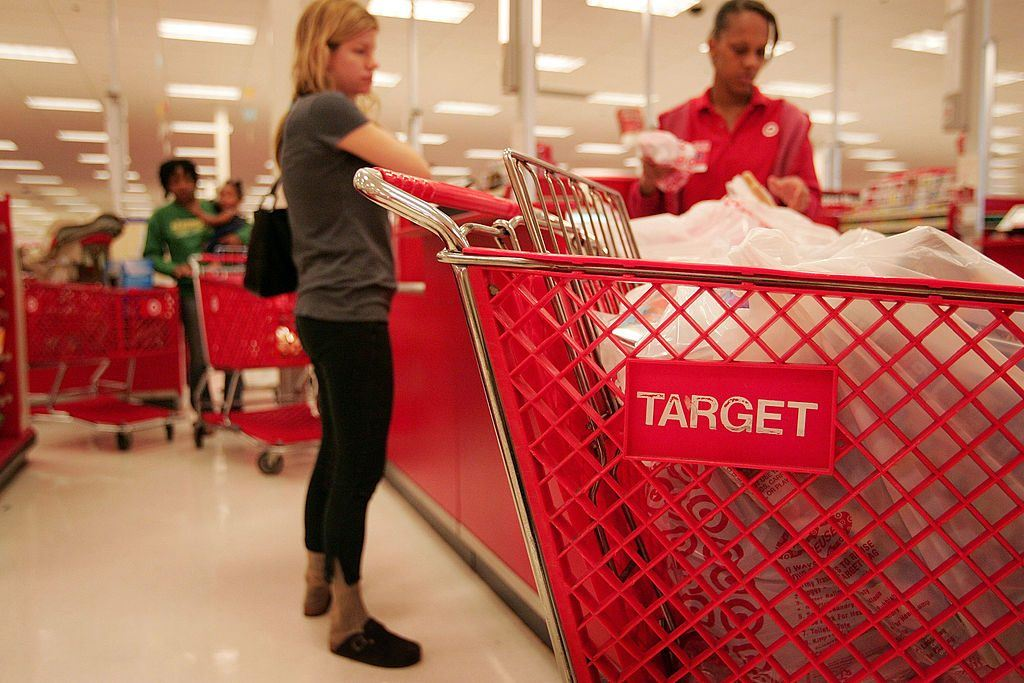Age_20_30: (299, 9, 381, 93), (715, 8, 777, 92)
Age_30_40: (162, 165, 199, 200)
Age_below20: (220, 182, 240, 207)
E_Black: (715, 8, 777, 92), (162, 165, 199, 200), (220, 182, 240, 207)
E_White: (299, 9, 381, 93)
Emotion_Neutral: (715, 8, 777, 92), (162, 165, 199, 200), (220, 182, 240, 207)
Emotion_Sad: (299, 9, 381, 93)
G_ Female: (299, 9, 381, 93), (715, 8, 777, 92), (220, 182, 240, 207)
G_Male: (162, 165, 199, 200)
